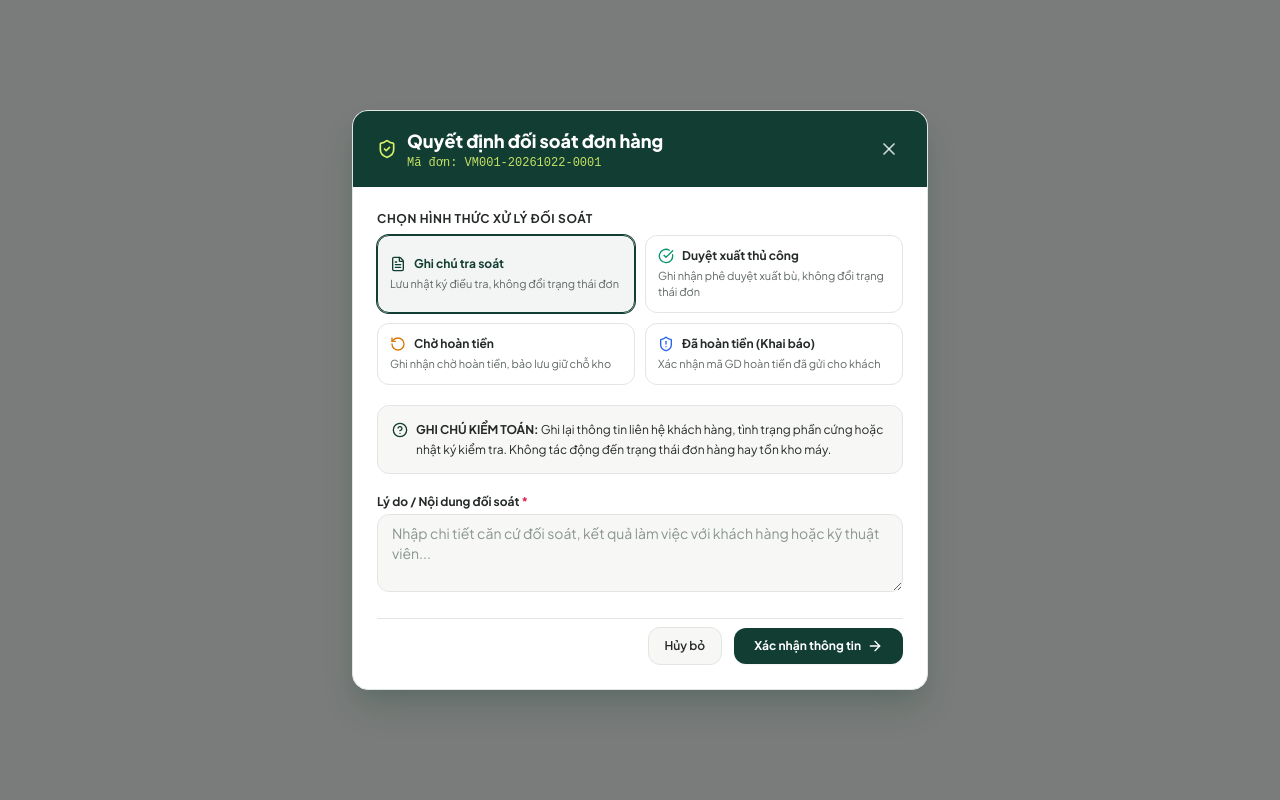
Test: ReconciliationDecisionModal Component › requires confirmationReference for REFUND_CONFIRMED and warns about declaration proof
Click REFUND_CONFIRMED tab
Click the text "Đã hoàn tiền (Khai báo)" at [748, 344], box [682,336,815,352]
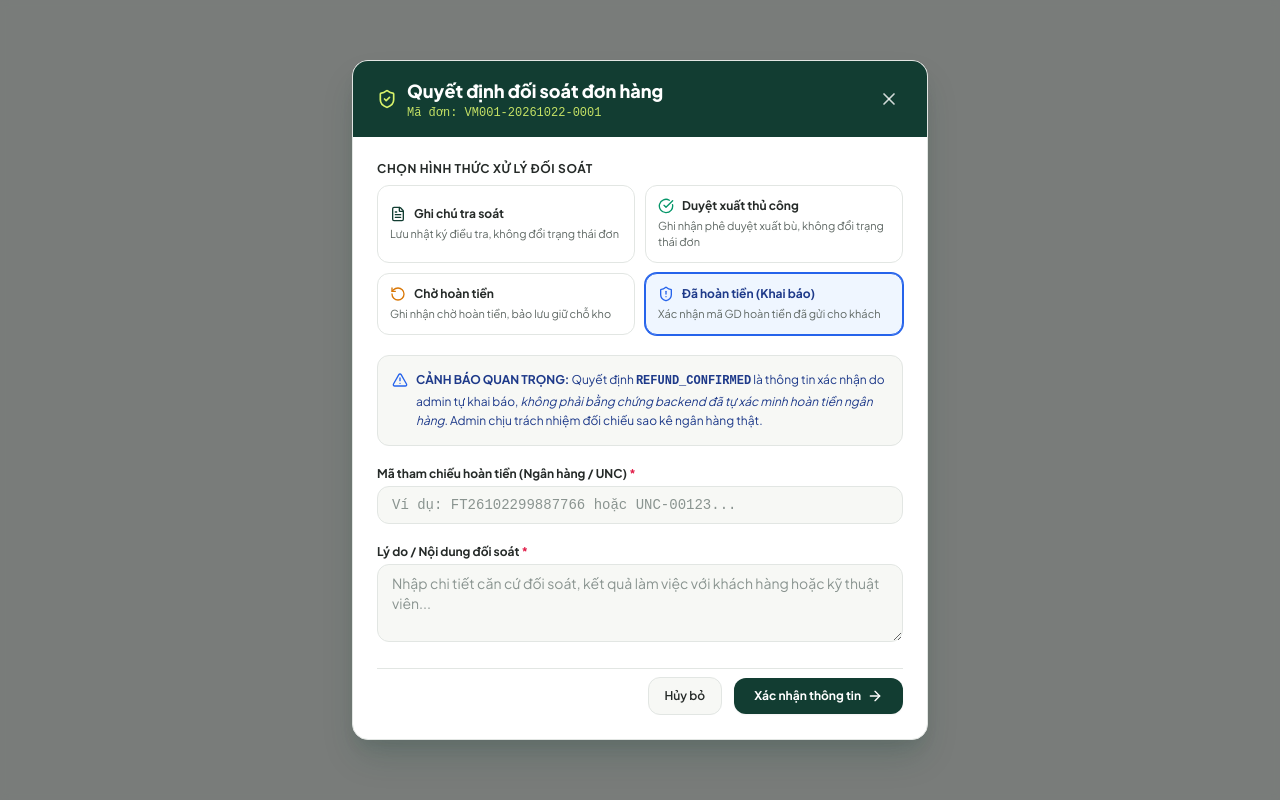
Check: the text "không phải bằng chứng backend đã tự xác minh hoàn tiền ngân hàng" is shown, box [416,394,872,428]
Check: the field labelled "Mã tham chiếu hoàn tiền (Ngân hàng / UNC) *" is shown, box [377,486,903,524]
Fill reason only
Replace the text in the text box with placeholder "Nhập chi tiết căn cứ đối soát" with "Đã chuyển tiền qua app Vietcombank" at [640, 603], box [377,564,903,642]
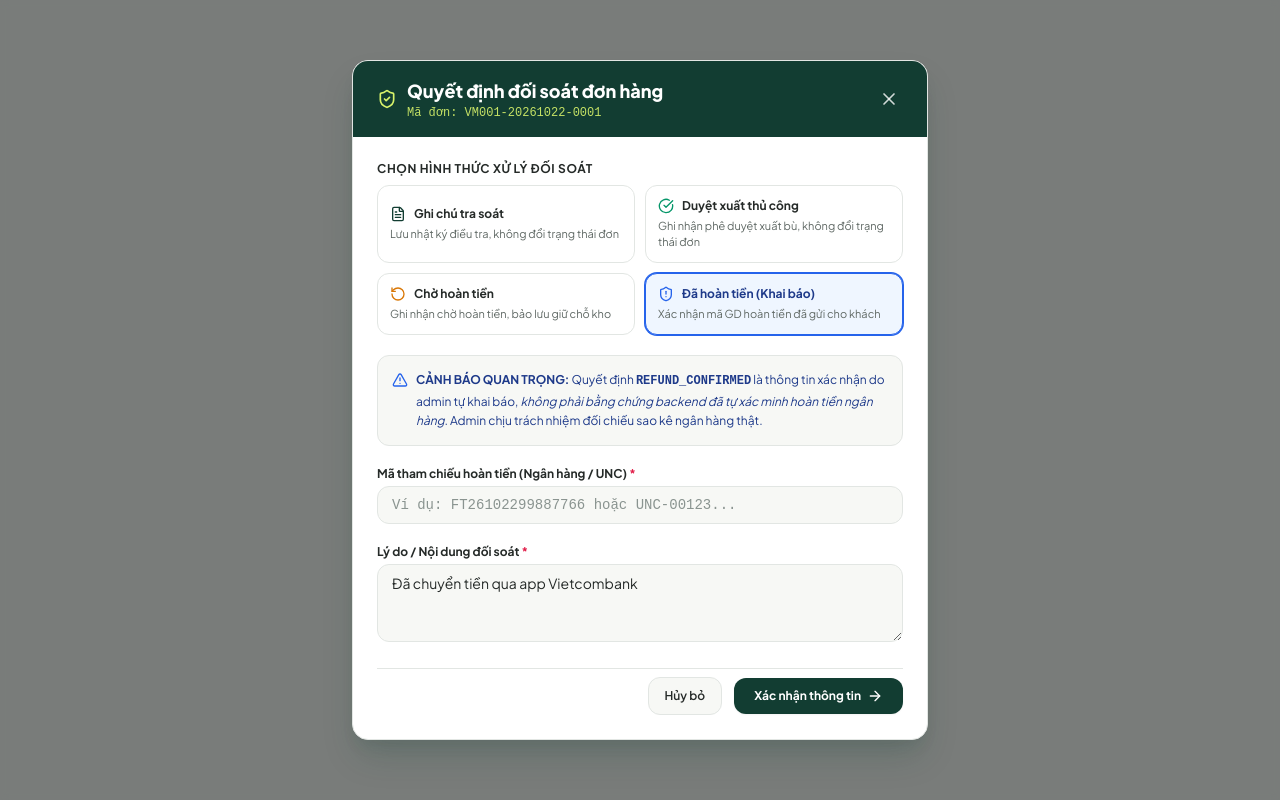
Click the button "Xác nhận thông tin" at [819, 696], box [734,678,903,714]
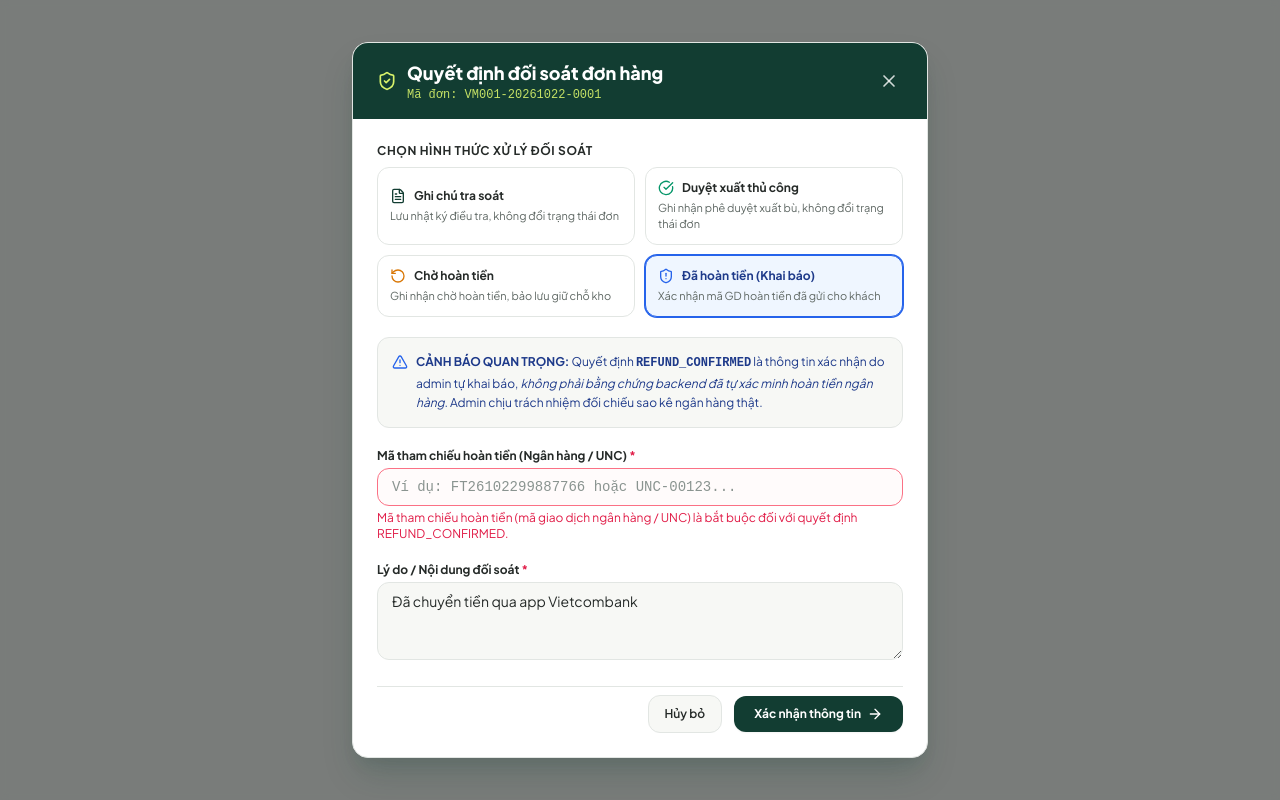
Check: the text "Mã tham chiếu hoàn tiền (mã giao dịch ngân hàng / UNC) là bắt buộc" is shown, box [377,510,857,541]
